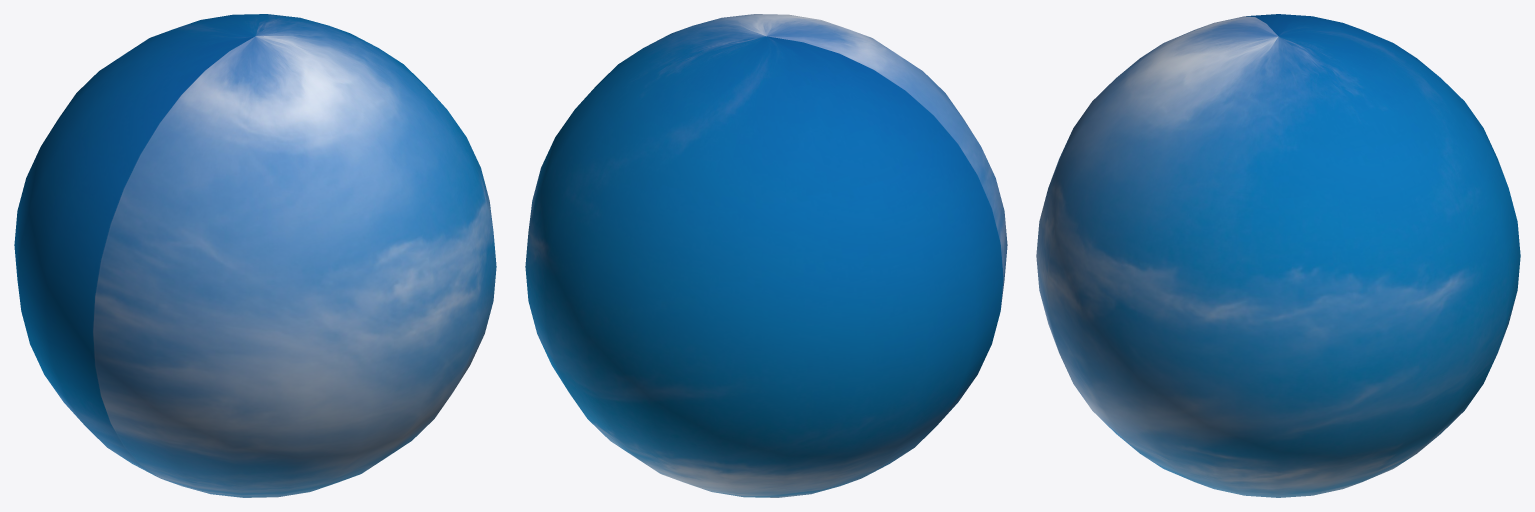
File: mapmd_ShoppingStreet_02.fbx
3 renders of one model, left to right at view 1: azimuth 30°, elevation 25°; view 2: azimuth 150°, elevation 25°; view 3: azimuth 270°, elevation 25°, orthographic.
Parts seen in each view (by area): view 1: shp_mesh; view 2: shp_mesh; view 3: shp_mesh.
Part boxes in pixels (x1=…): shp_mesh: x1=14, y1=14, x2=496, y2=497; shp_mesh: x1=525, y1=14, x2=1007, y2=497; shp_mesh: x1=1036, y1=14, x2=1520, y2=497.
Bounding box in the file's own units: 20000 × 20000 × 20000.
